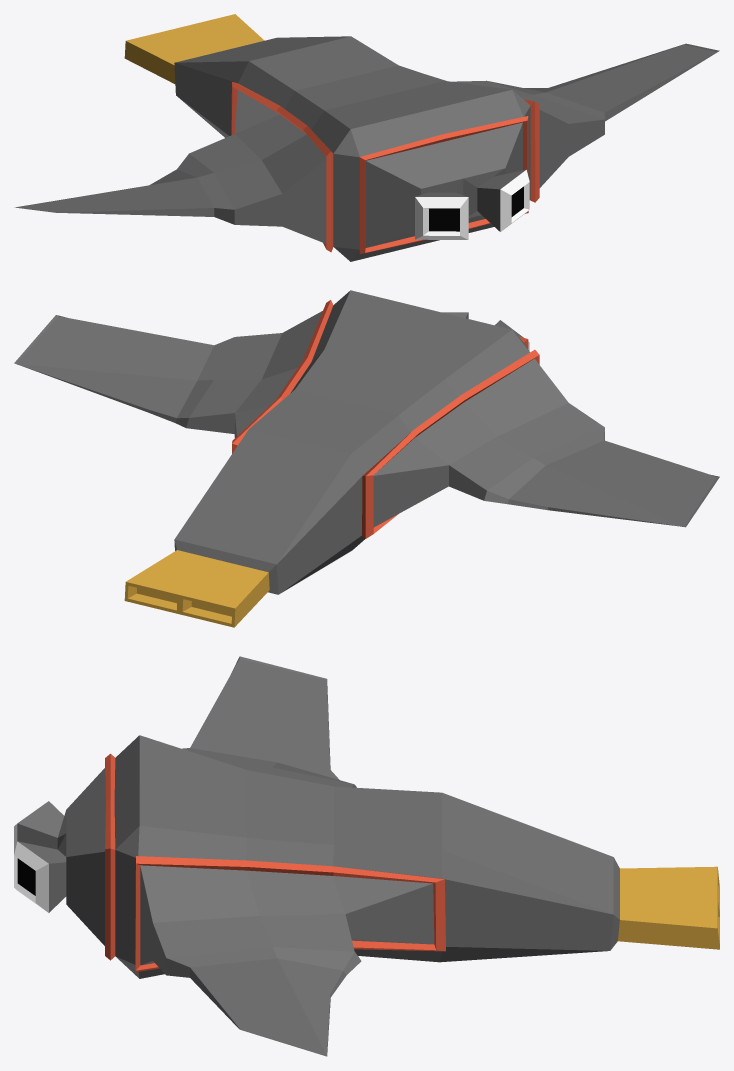
Rendered from FlyingEnemy.fbx.
3 views of the same model, one above another, from view 1: azimuth 30°, elevation 25°; view 2: azimuth 150°, elevation 25°; view 3: azimuth 270°, elevation 25° (orthographic). The views are drawn at different scales.
Visible parts, largest first — view 1: Cube; view 2: Cube; view 3: Cube.
Part boxes in pixels (box(x1,y1,x2,y2)): Cube: box(14, 14, 719, 261); Cube: box(14, 290, 719, 627); Cube: box(14, 656, 719, 1056).
Bounding box in the file's own units: 3.32 × 0.6266 × 2.62.
